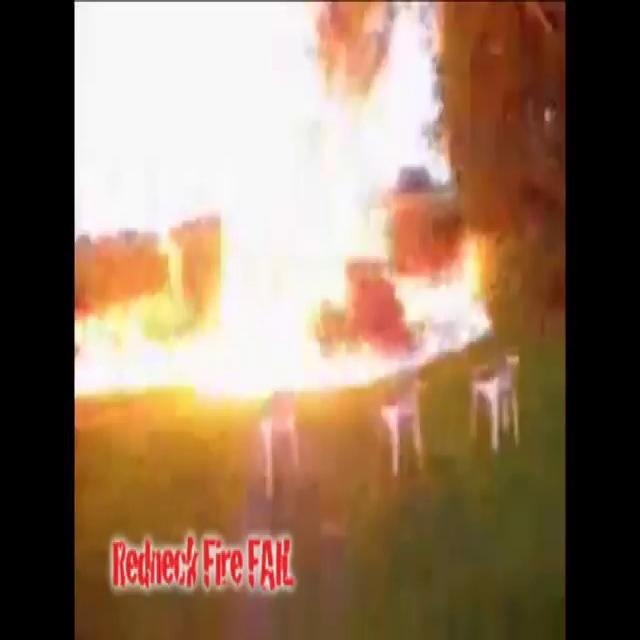Fire: (80, 2, 518, 425)
